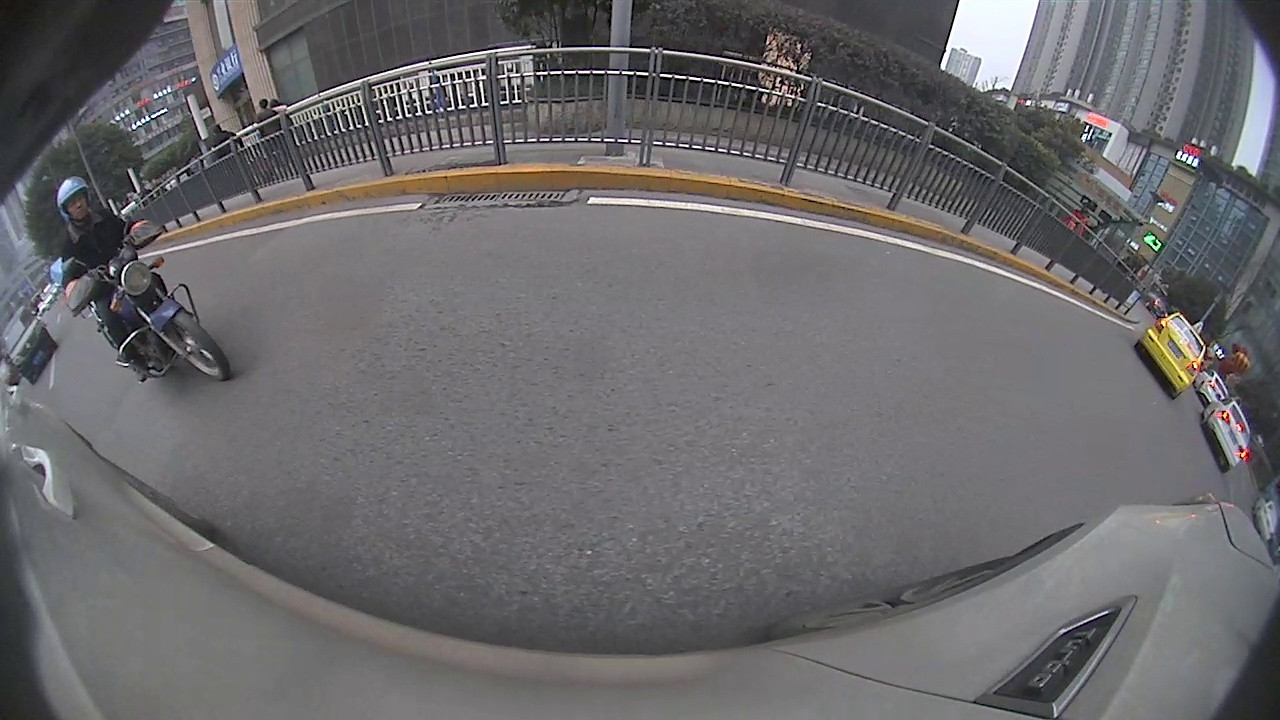car: (1135, 310, 1207, 399), (1199, 395, 1254, 474)
front: (159, 308, 233, 382)
rider: (56, 176, 233, 383)
